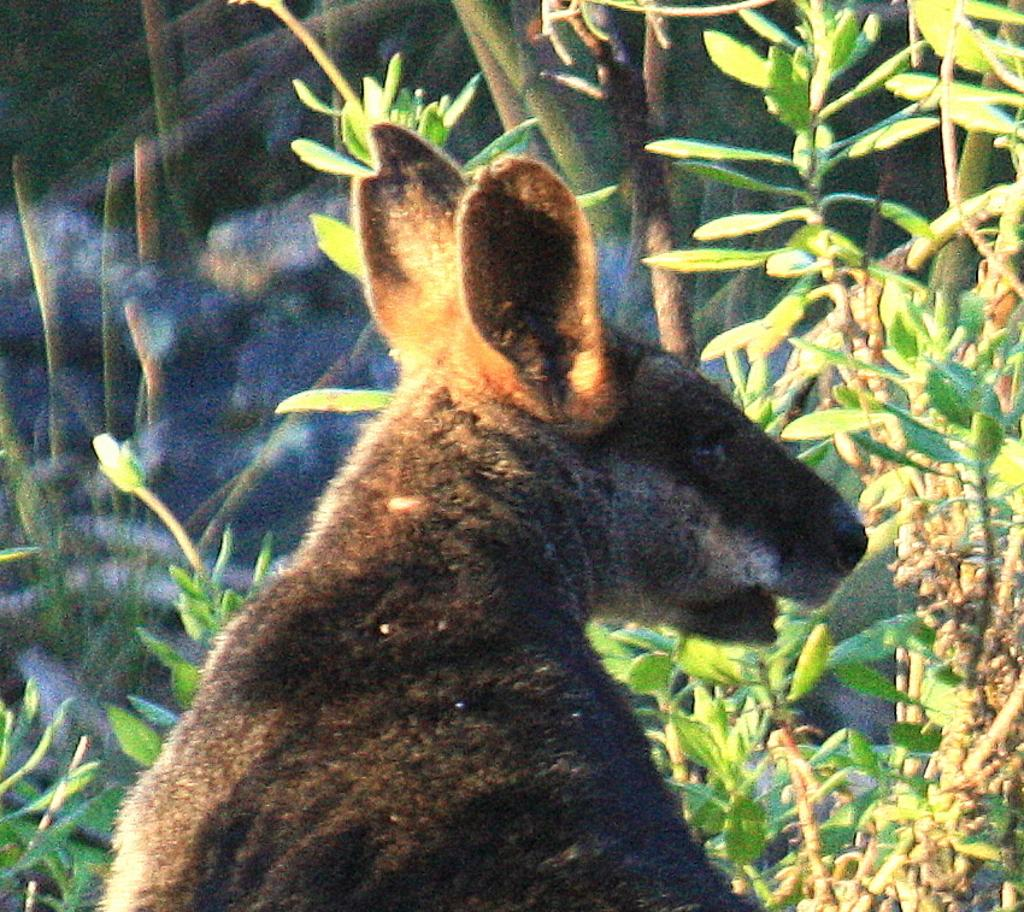kangaroo: (98, 120, 868, 910)
